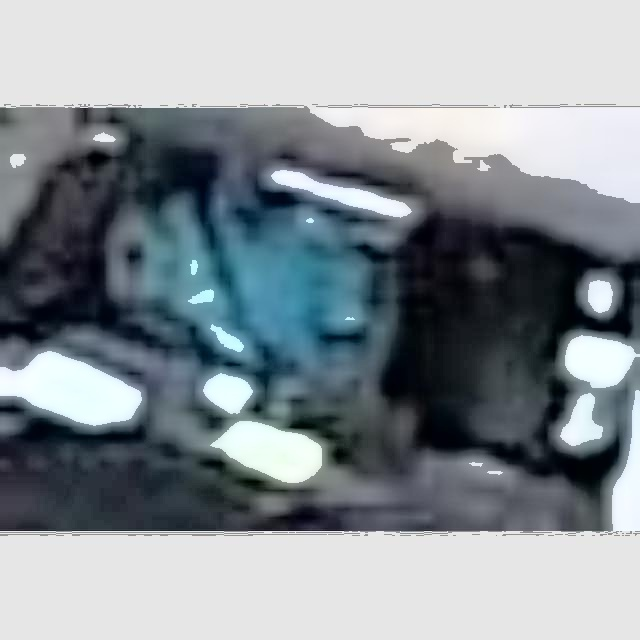pakai: (108, 171, 352, 423)
